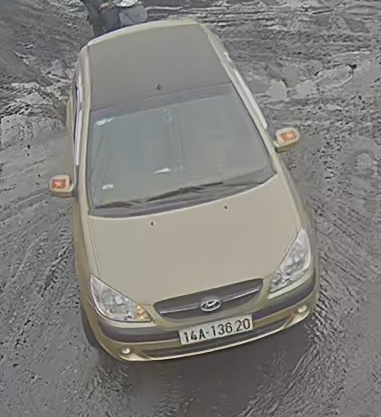vehicle plate: (175, 312, 255, 349)
